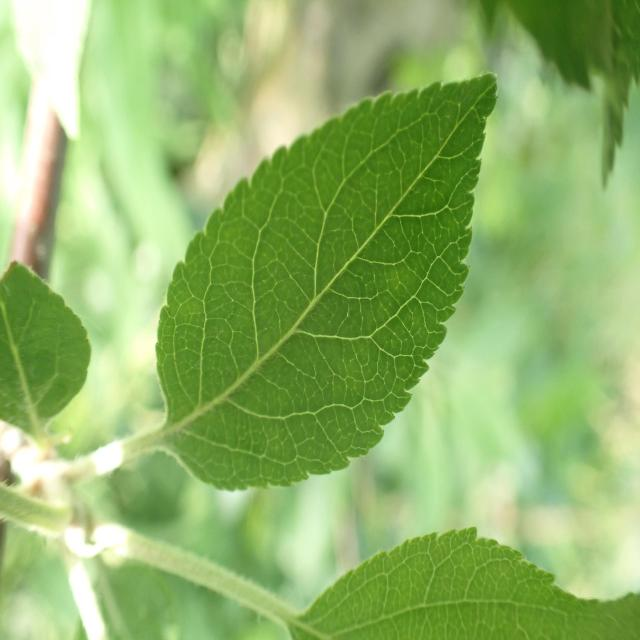healthy: (156, 71, 498, 493), (287, 525, 640, 640), (0, 258, 91, 435)
